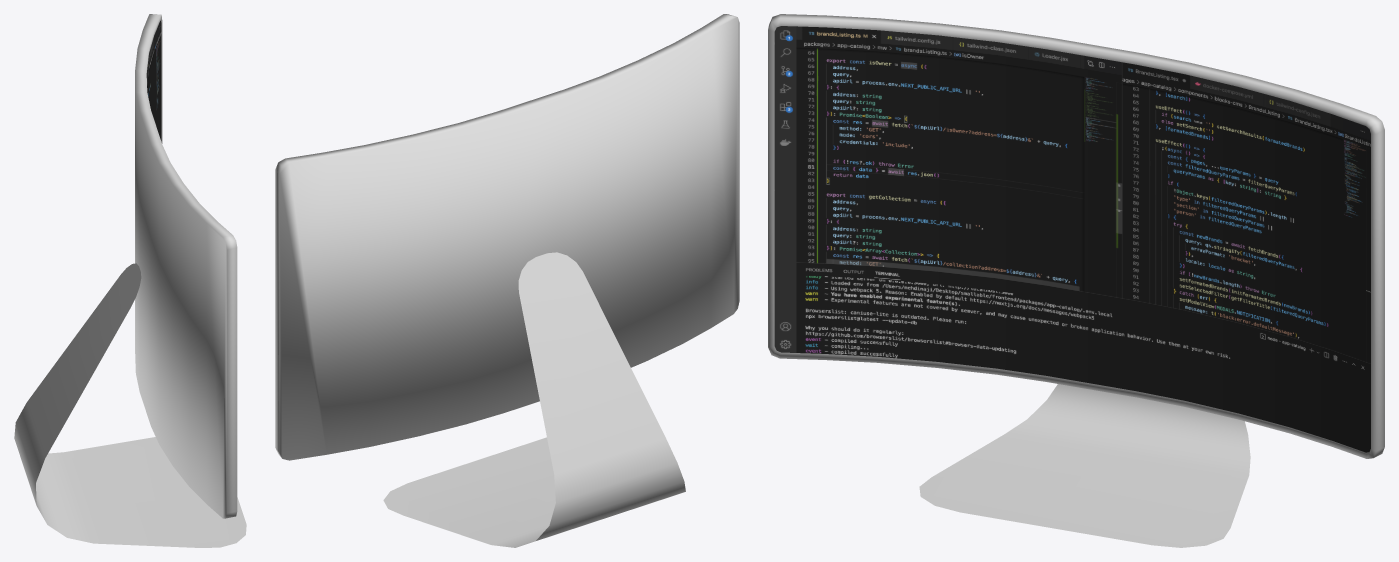
File: computerHero.glb
The picture shows the model from 3 angles, left to right: view 1: azimuth 30°, elevation 25°; view 2: azimuth 150°, elevation 25°; view 3: azimuth 270°, elevation 25°; orthographic projection. The views are drawn at different scales.
Parts seen in each view (by area): view 1: Plane.001, Plane; view 2: Plane.001, Plane; view 3: Plane.001, Plane.
Boxes of the visible parts, x1,y1,x2,y2 form: Plane.001: (135, 14, 237, 518); Plane: (14, 263, 246, 547); Plane.001: (275, 14, 739, 460); Plane: (383, 252, 685, 547); Plane.001: (768, 14, 1384, 458); Plane: (919, 384, 1250, 547).
Size of the model in its own units: 3.61 by 4.93 by 6.26.
Materials: 2 (1 with a texture image).
